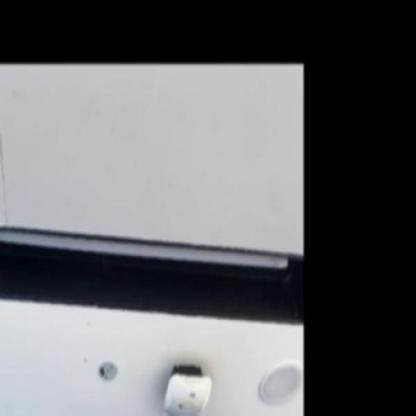light_off: (0, 153, 294, 316)
